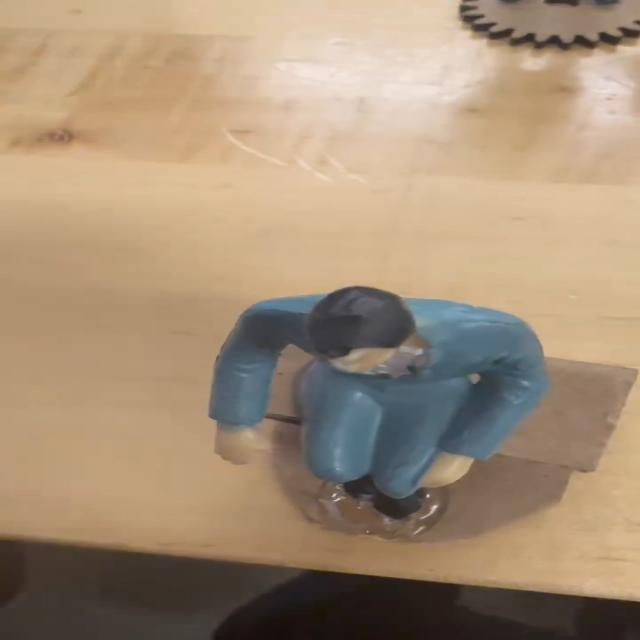Authorized: (135, 267, 637, 596)
